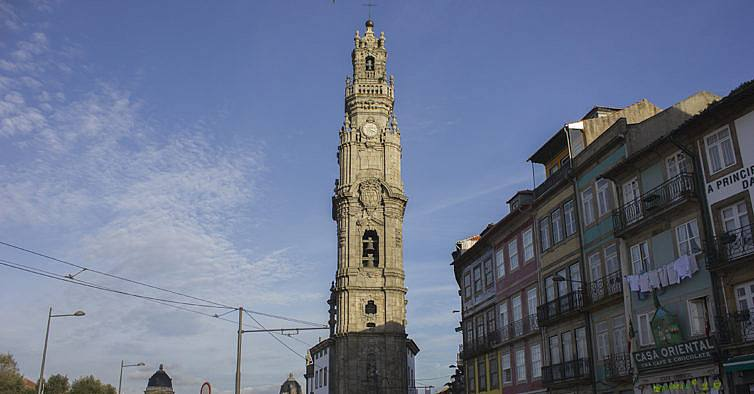clerigos: (326, 2, 410, 393)
